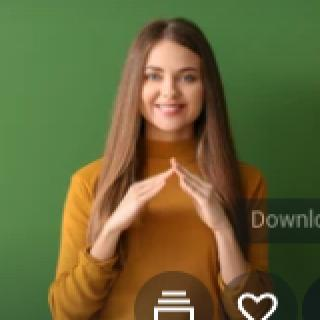House: (120, 161, 216, 224)
